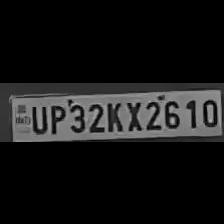0: (199, 96, 219, 127)
1: (182, 96, 198, 128)
2: (86, 100, 104, 132), (142, 97, 160, 129)
3: (66, 100, 86, 132)
6: (161, 96, 181, 128)
K: (104, 98, 124, 132)
P: (47, 100, 65, 134)
U: (28, 101, 48, 133)
X: (123, 98, 143, 130)
